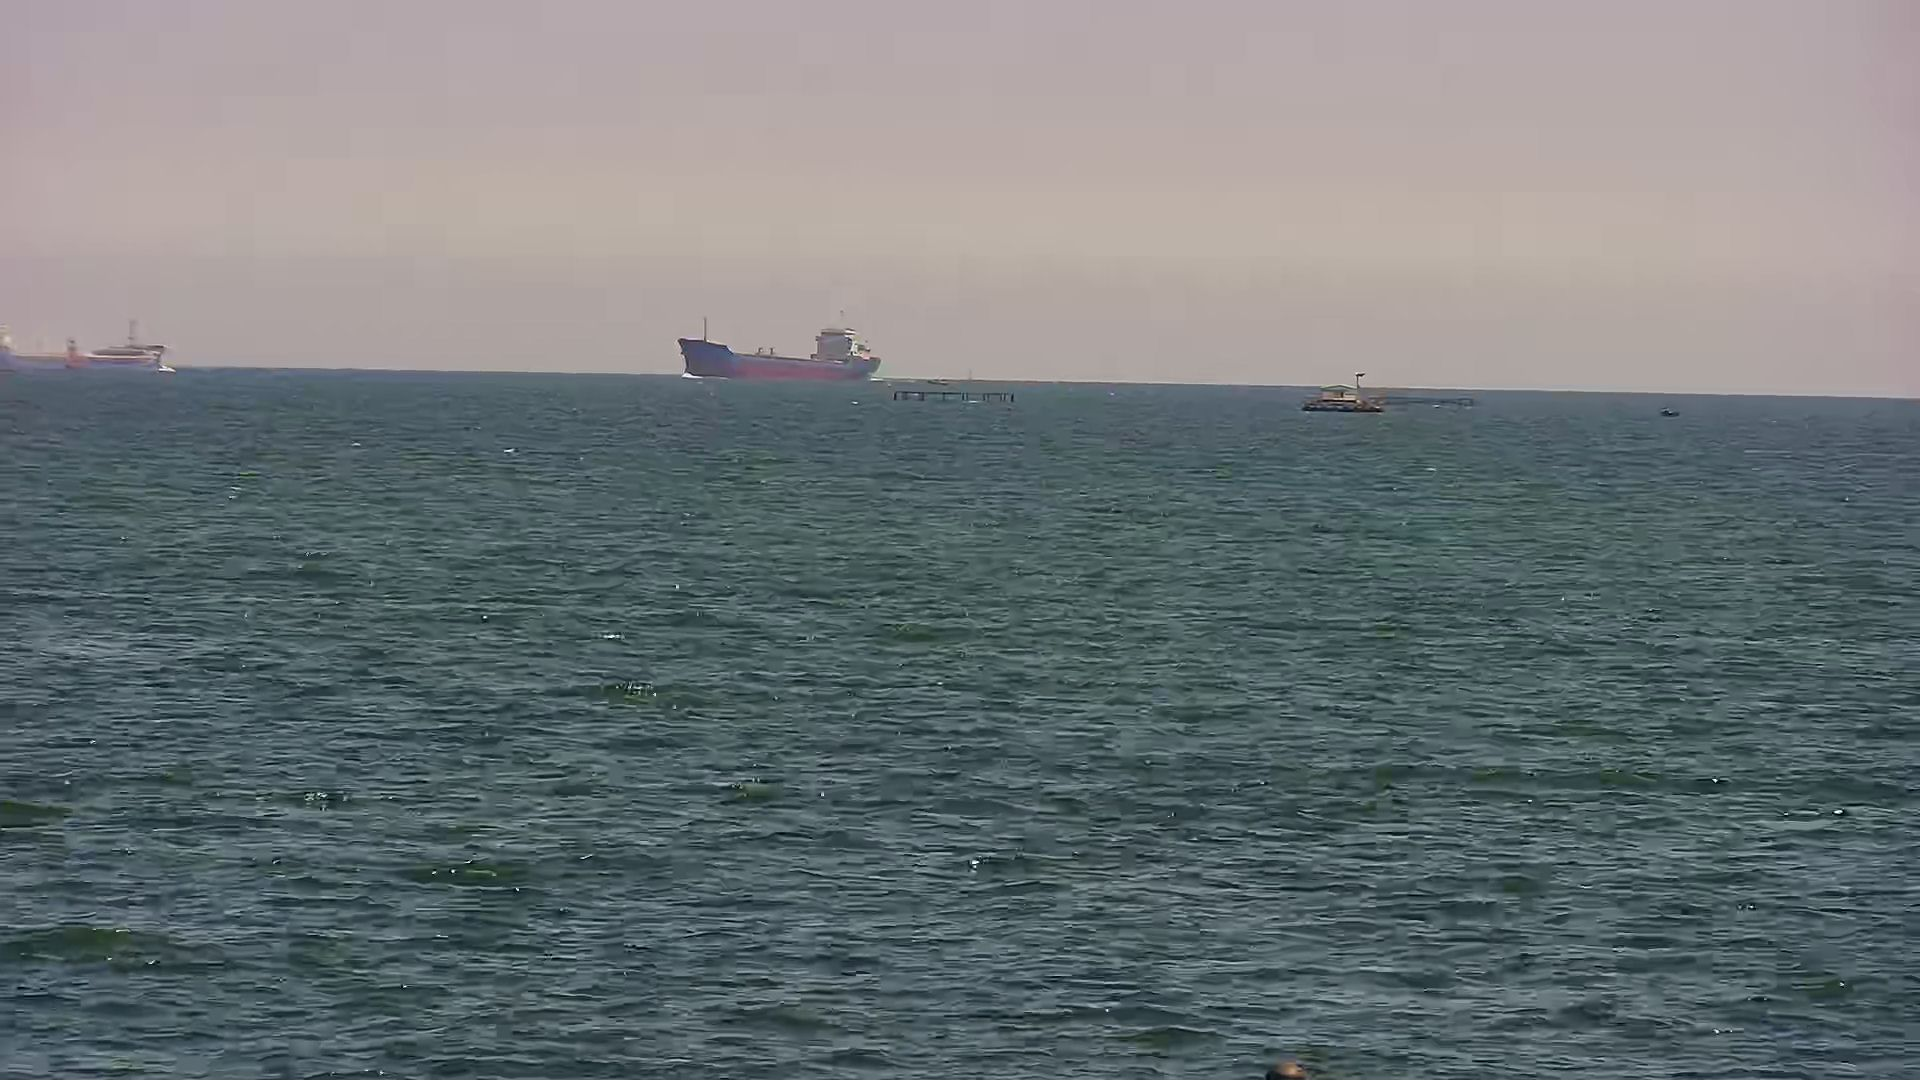boat: (1654, 396, 1720, 427)
platform: (1296, 368, 1398, 421), (887, 380, 1042, 410), (1374, 385, 1511, 418)
ship: (669, 303, 907, 386), (1, 324, 190, 385)
